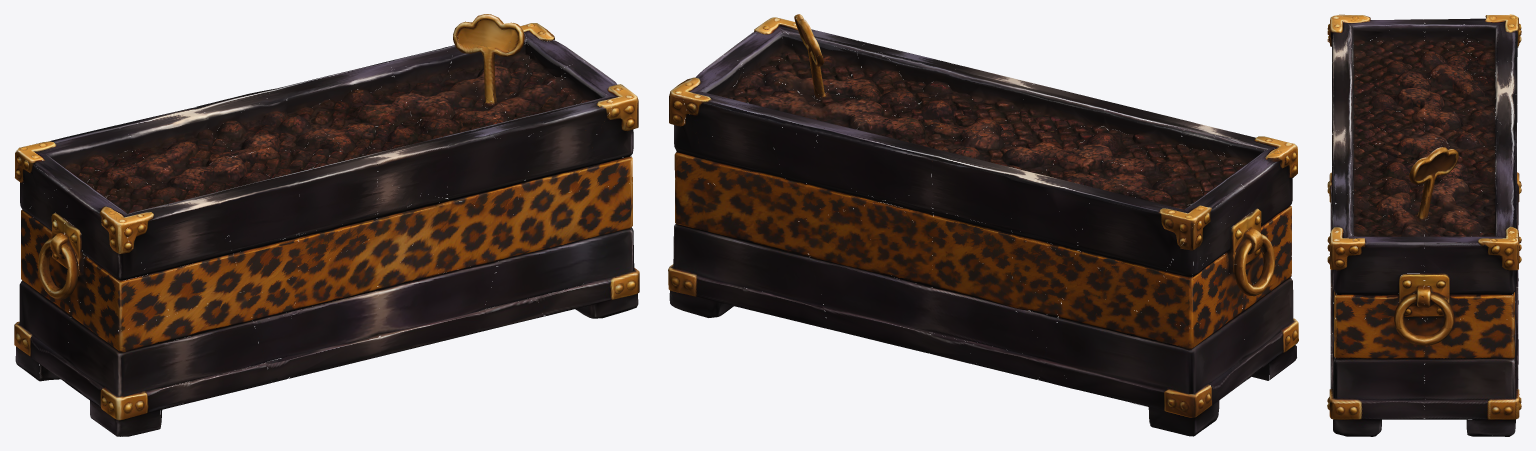
File: planter.glb
3 renders of one model, left to right at view 1: azimuth 30°, elevation 25°; view 2: azimuth 150°, elevation 25°; view 3: azimuth 270°, elevation 25°, orthographic. The views are drawn at different scales.
Parts seen in each view (by area): view 1: tripo_node_7f3280bc-85a8-424d-bbe4-8822a1d87fd2; view 2: tripo_node_7f3280bc-85a8-424d-bbe4-8822a1d87fd2; view 3: tripo_node_7f3280bc-85a8-424d-bbe4-8822a1d87fd2.
Part boxes in pixels (x1=…): tripo_node_7f3280bc-85a8-424d-bbe4-8822a1d87fd2: x1=14, y1=14, x2=639, y2=436; tripo_node_7f3280bc-85a8-424d-bbe4-8822a1d87fd2: x1=668, y1=14, x2=1298, y2=436; tripo_node_7f3280bc-85a8-424d-bbe4-8822a1d87fd2: x1=1327, y1=14, x2=1521, y2=436.
Bounding box in the file's own units: 1 × 0.478 × 0.3377.
1 material, 1 textured.
